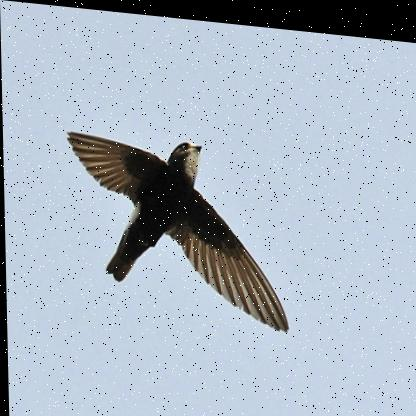Burung: (66, 127, 288, 326)
